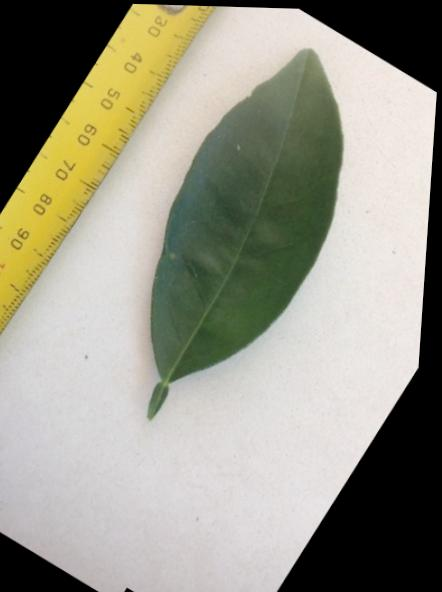Healthy Citrus: (64, 18, 433, 458)
